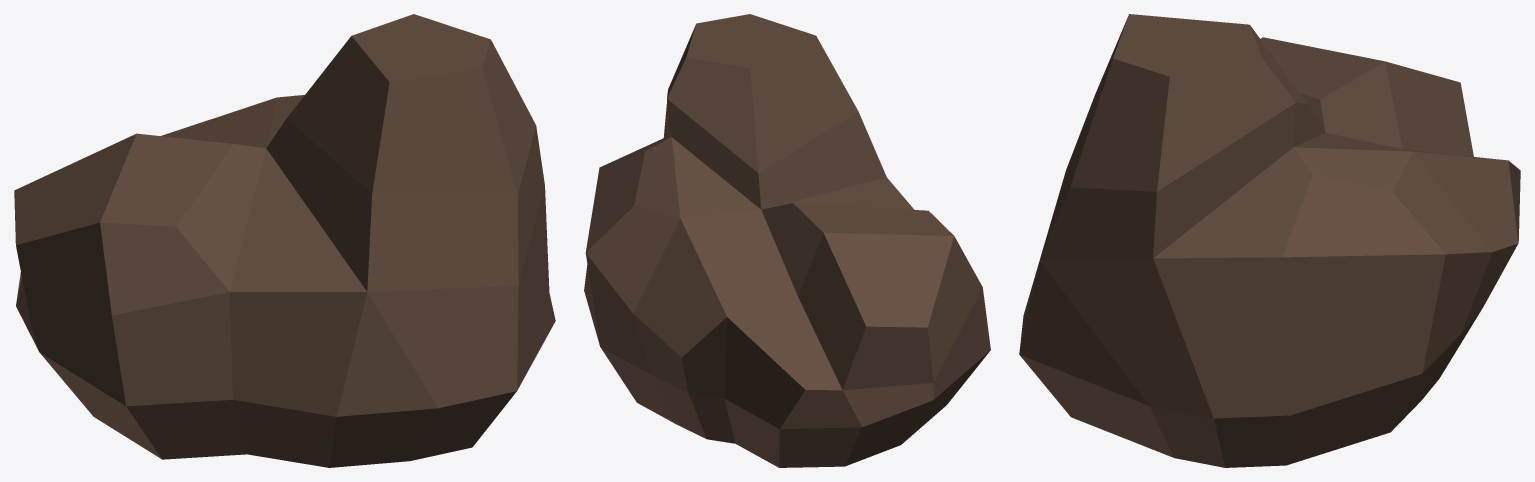
The model's file is rock_1.fbx.
The picture shows the model from 3 angles, left to right: view 1: azimuth 30°, elevation 25°; view 2: azimuth 150°, elevation 25°; view 3: azimuth 270°, elevation 25°; orthographic projection. The views are drawn at different scales.
Parts seen in each view (by area): view 1: rock_1; view 2: rock_1; view 3: rock_1.
Part boxes in pixels (<box>): rock_1: <box>14,14,555,467</box>; rock_1: <box>584,14,990,467</box>; rock_1: <box>1019,14,1520,467</box>.
Bounding box in the file's own units: 340 × 257 × 312.
